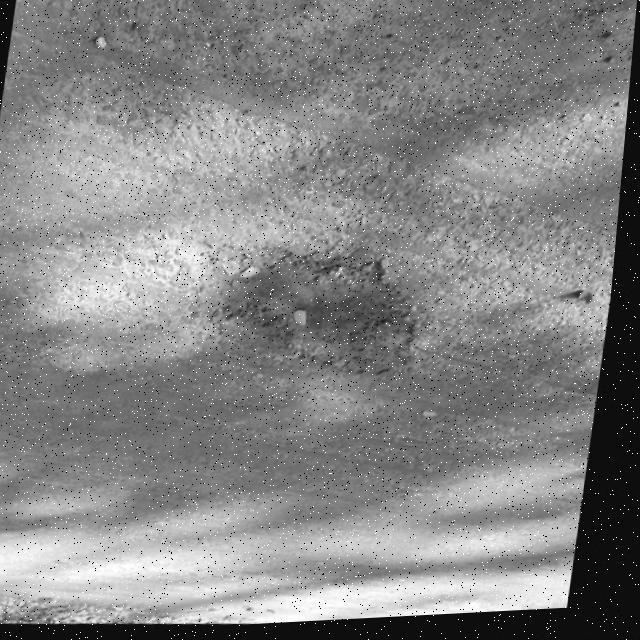pothole: (186, 230, 440, 394)
